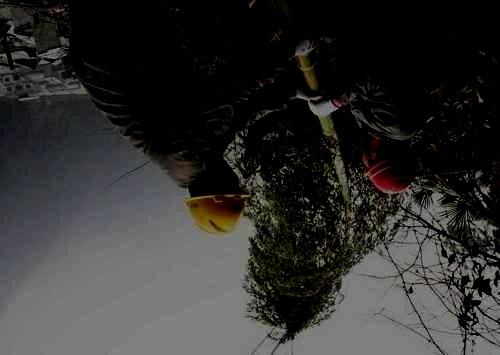helmet: (182, 161, 253, 237), (361, 131, 418, 194)
